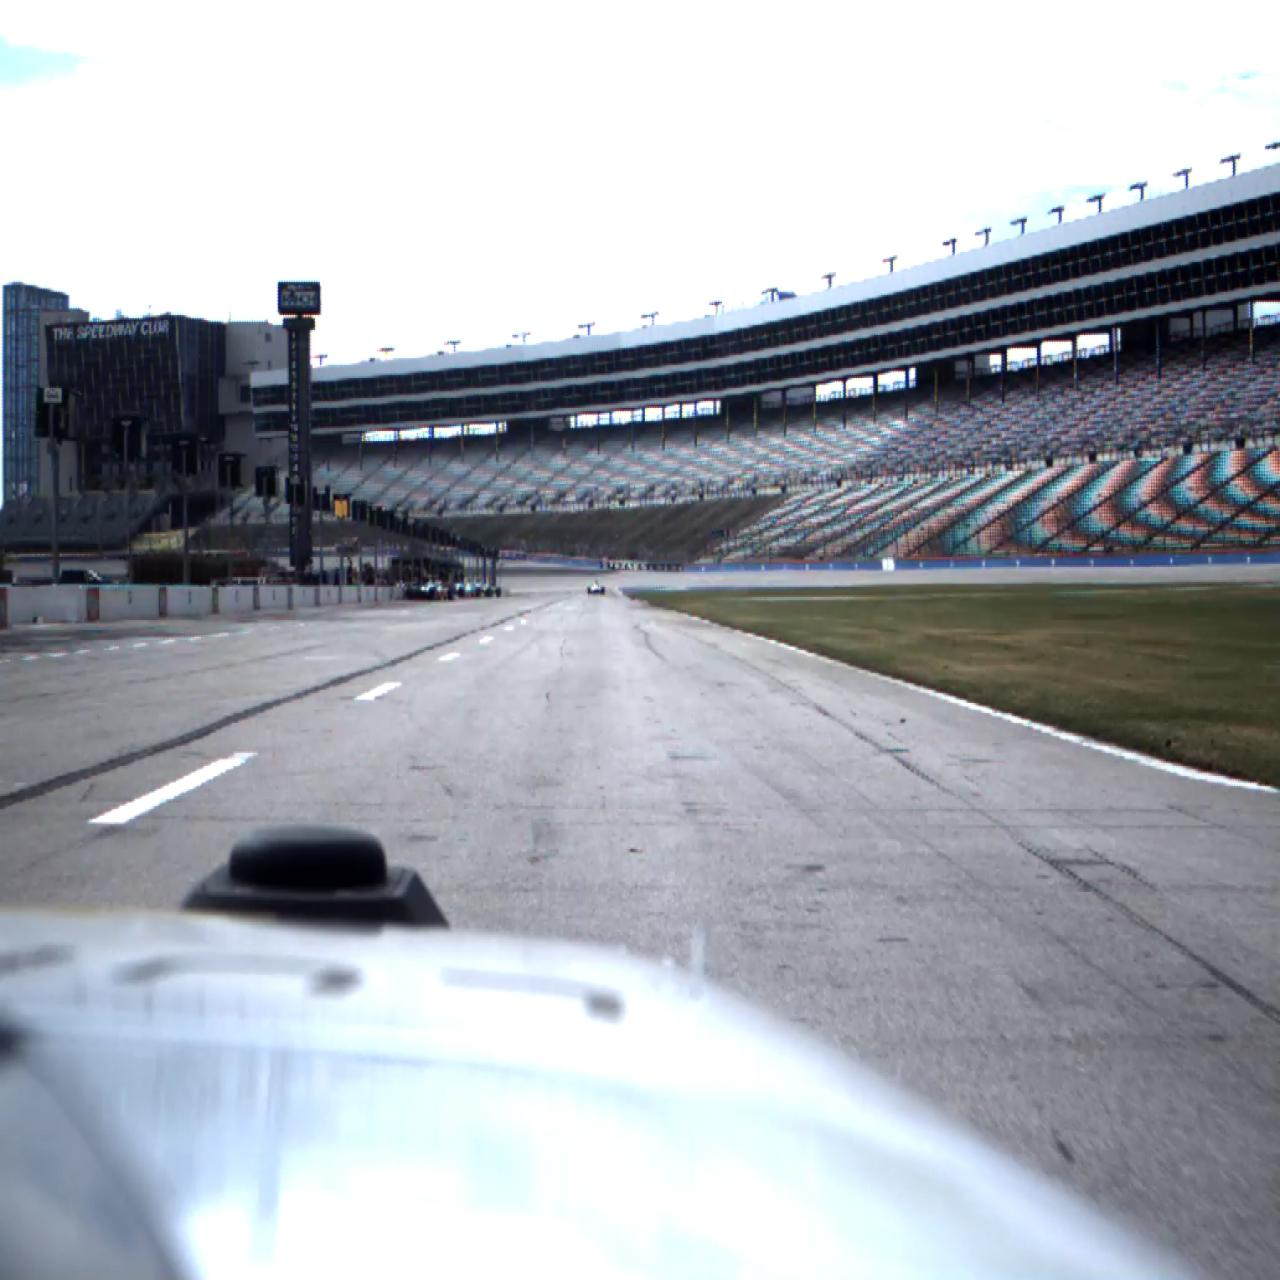AV: (586, 580, 606, 595)
Wheel: (601, 587, 605, 595), (587, 587, 591, 595)
